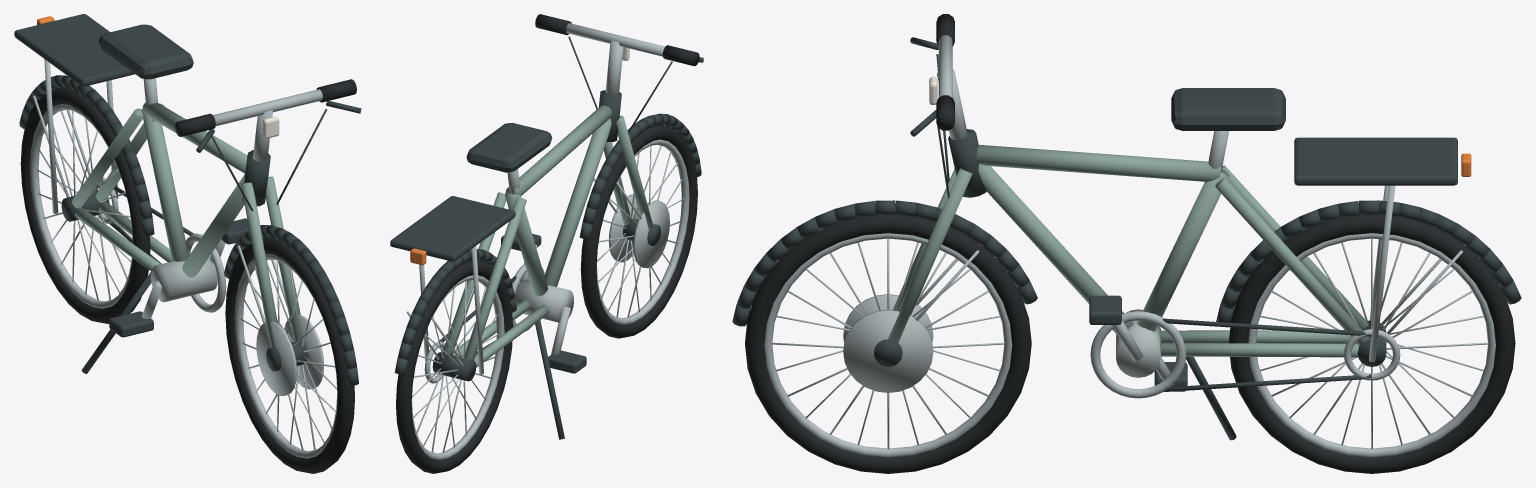
The model's file is site-bicycle.glb.
The picture shows the model from 3 angles, left to right: view 1: azimuth 30°, elevation 25°; view 2: azimuth 150°, elevation 25°; view 3: azimuth 270°, elevation 25°; orthographic projection. The views are drawn at different scales.
Visible parts, largest first — view 1: site-bicycle_Galvanized_brushed_steel, site-bicycle_Anthracite_anodized_metal, site-bicycle_Rubber_gaskets_and_feet, site-bicycle_Sage_ceramic_cladding; view 2: site-bicycle_Galvanized_brushed_steel, site-bicycle_Anthracite_anodized_metal, site-bicycle_Sage_ceramic_cladding, site-bicycle_Rubber_gaskets_and_feet; view 3: site-bicycle_Galvanized_brushed_steel, site-bicycle_Anthracite_anodized_metal, site-bicycle_Rubber_gaskets_and_feet, site-bicycle_Sage_ceramic_cladding.
Part boxes in pixels (x1,y1,x2,y2): site-bicycle_Galvanized_brushed_steel: (30,59,337,458); site-bicycle_Anthracite_anodized_metal: (14,14,361,385); site-bicycle_Rubber_gaskets_and_feet: (20,79,356,473); site-bicycle_Sage_ceramic_cladding: (72,102,302,347); site-bicycle_Galvanized_brushed_steel: (406,23,689,459); site-bicycle_Anthracite_anodized_metal: (390,36,703,439); site-bicycle_Sage_ceramic_cladding: (442,105,653,367); site-bicycle_Rubber_gaskets_and_feet: (396,14,699,473); site-bicycle_Galvanized_brushed_steel: (764,35,1495,457); site-bicycle_Anthracite_anodized_metal: (732,37,1521,440); site-bicycle_Rubber_gaskets_and_feet: (745,14,1515,473); site-bicycle_Sage_ceramic_cladding: (888,145,1369,357).
Size of the model in its own units: 0.58 by 1.1 by 1.93.
